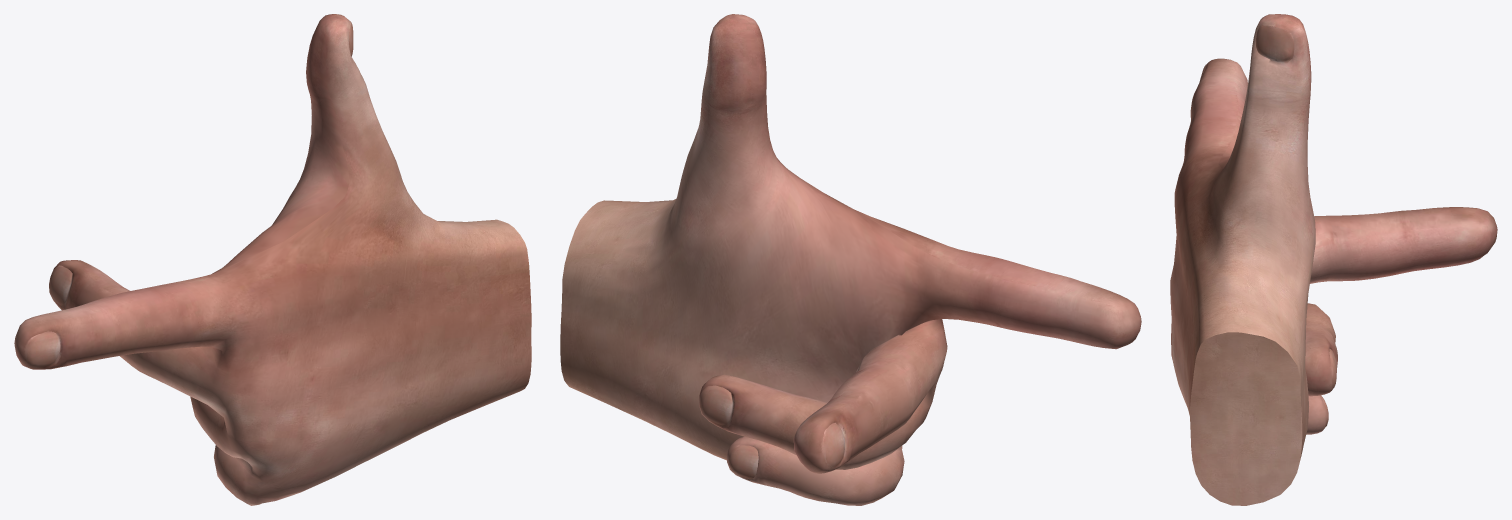
Rendered from LeftHandRule_Sketchfab.FBX.
3 views of the same model, side by side, from view 1: azimuth 30°, elevation 25°; view 2: azimuth 150°, elevation 25°; view 3: azimuth 270°, elevation 25° (orthographic). The views are drawn at different scales.
Visible parts, largest first — view 1: Cube.005; view 2: Cube.005; view 3: Cube.005.
Part boxes in pixels (<box>): Cube.005: <box>14,14,531,505</box>; Cube.005: <box>560,14,1141,505</box>; Cube.005: <box>1170,14,1497,505</box>.
Bounding box in the file's own units: 178 × 149 × 95.88.
1 material, 1 textured.
